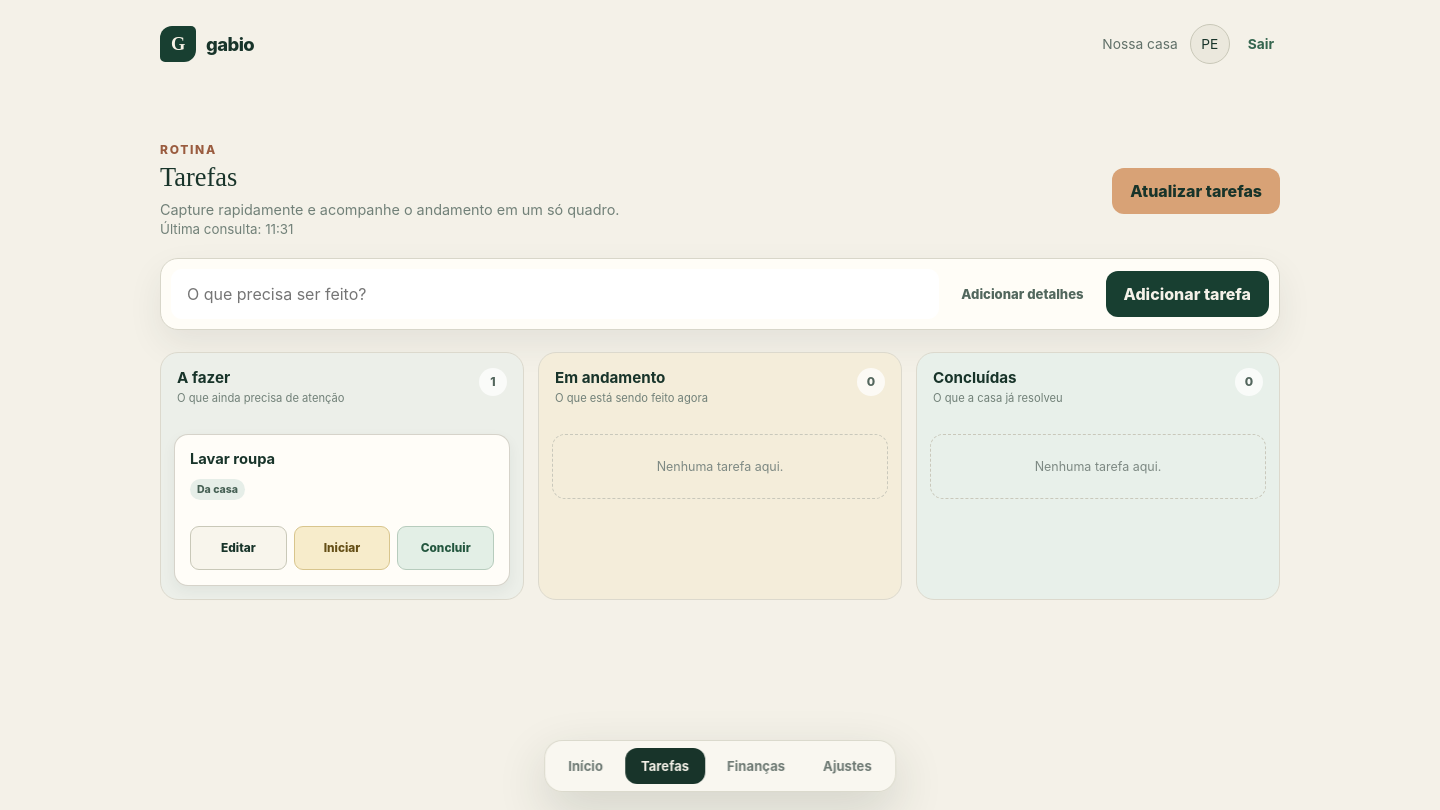
it: App › updates from the server without clearing a draft
Expected: the button "Atualizar tarefas" is enabled, [1112,168,1280,214]
Type "Rascunho não enviado" into the field named "Título da tarefa".
click(555, 294); type("Rascunho não enviado")  # box [171,269,939,319]
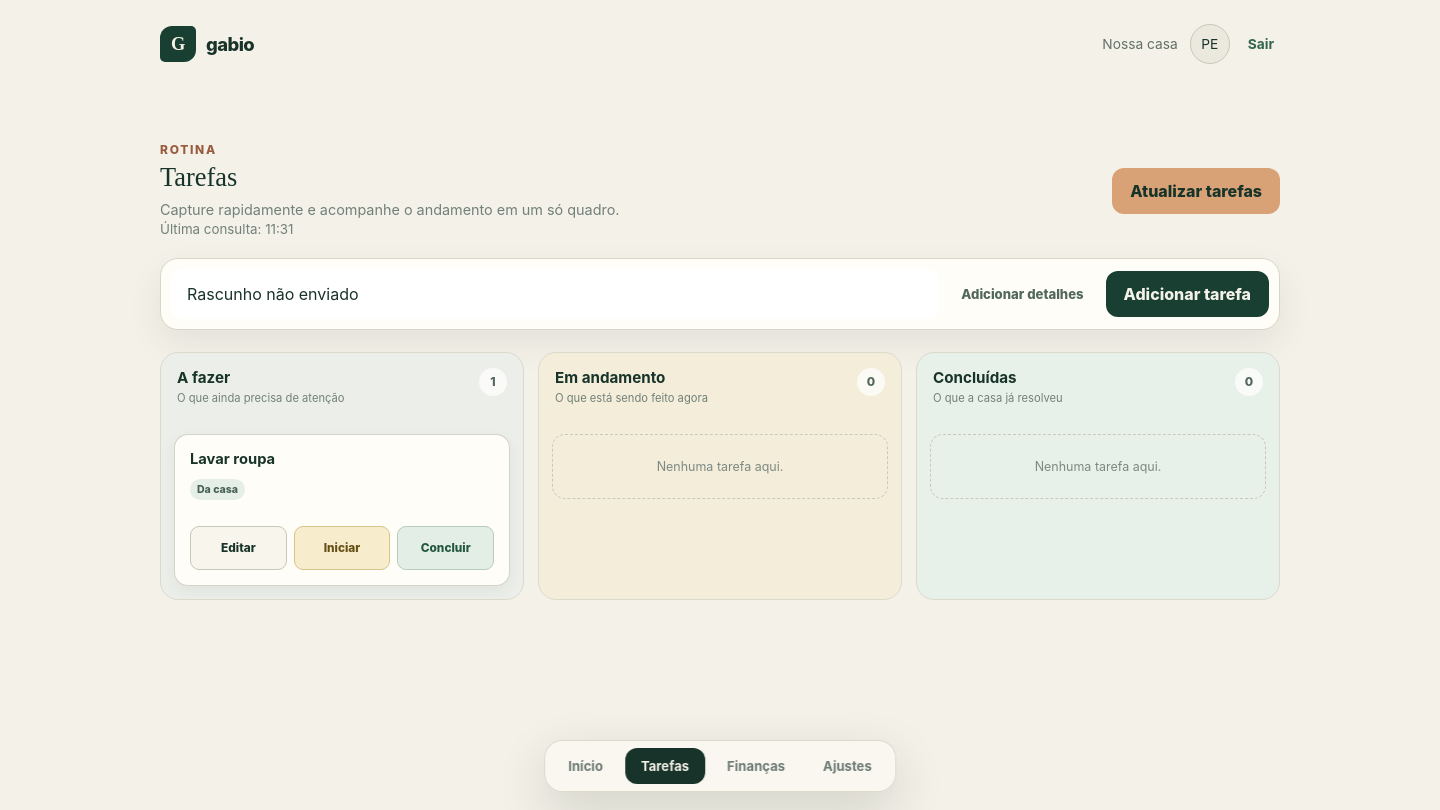
Click the button "Atualizar tarefas".
click(1196, 191)  # box [1112,168,1280,214]
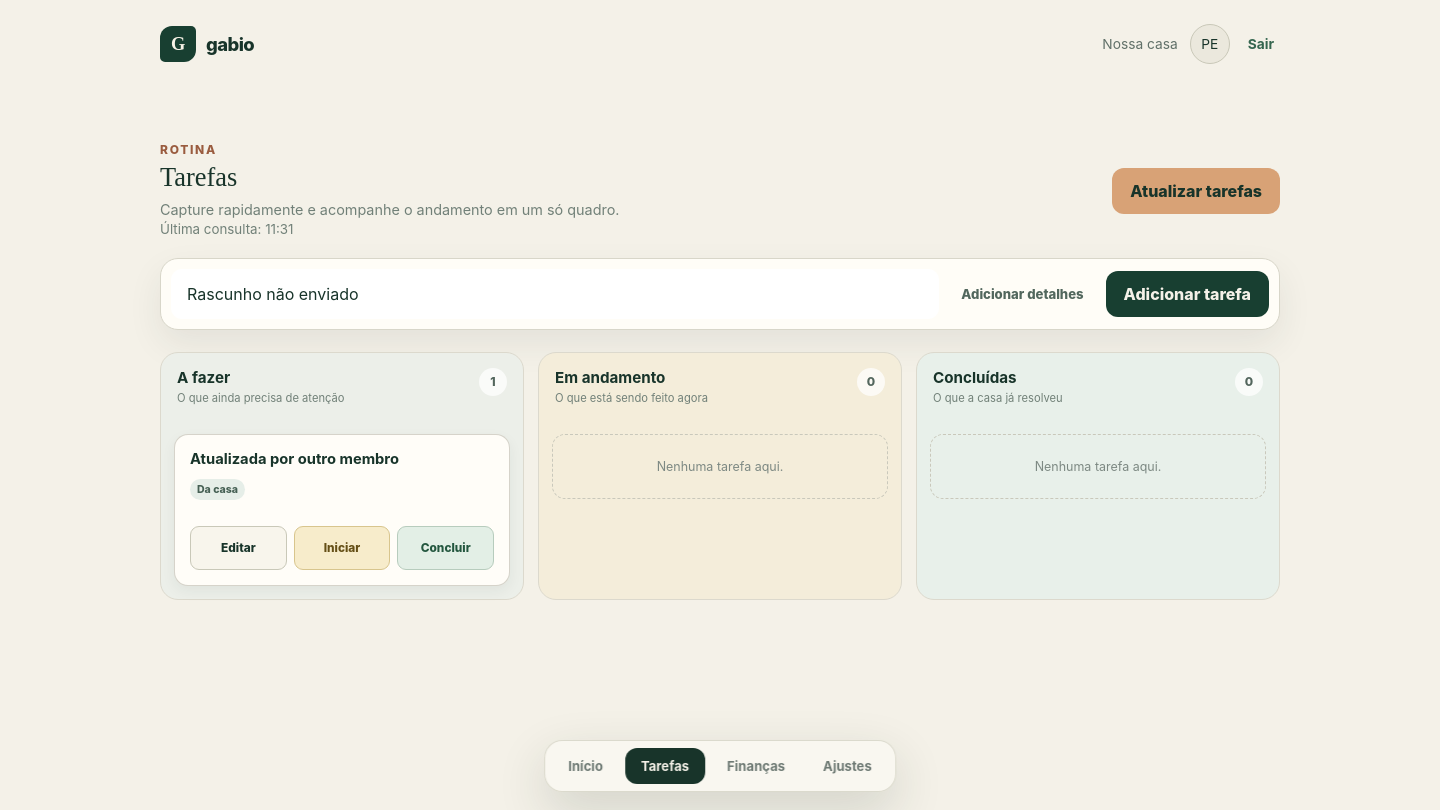
Now the text "Atualizada por outro membro" is shown, box [190,450,399,468]
